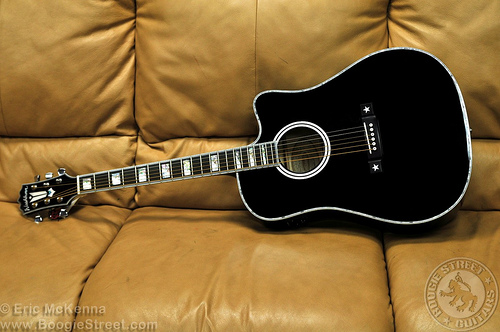guitar: (16, 47, 475, 237)
